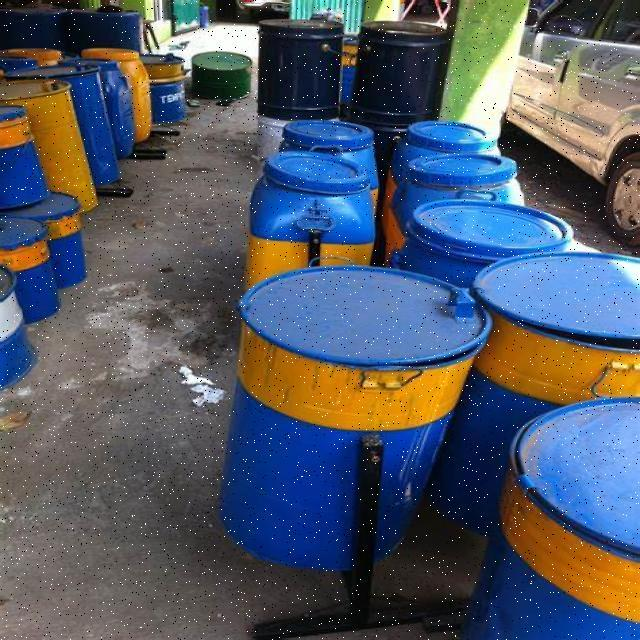garbage container: (226, 259, 481, 595), (491, 397, 640, 640), (458, 234, 640, 401), (240, 143, 389, 282), (410, 170, 555, 290), (405, 87, 528, 176), (291, 99, 376, 207)
